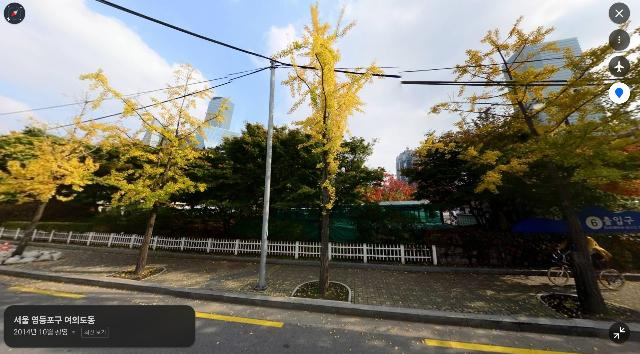ginkgo: (420, 14, 640, 315), (76, 62, 232, 276), (273, 1, 385, 295), (0, 68, 161, 259)
other: (587, 112, 640, 269)
